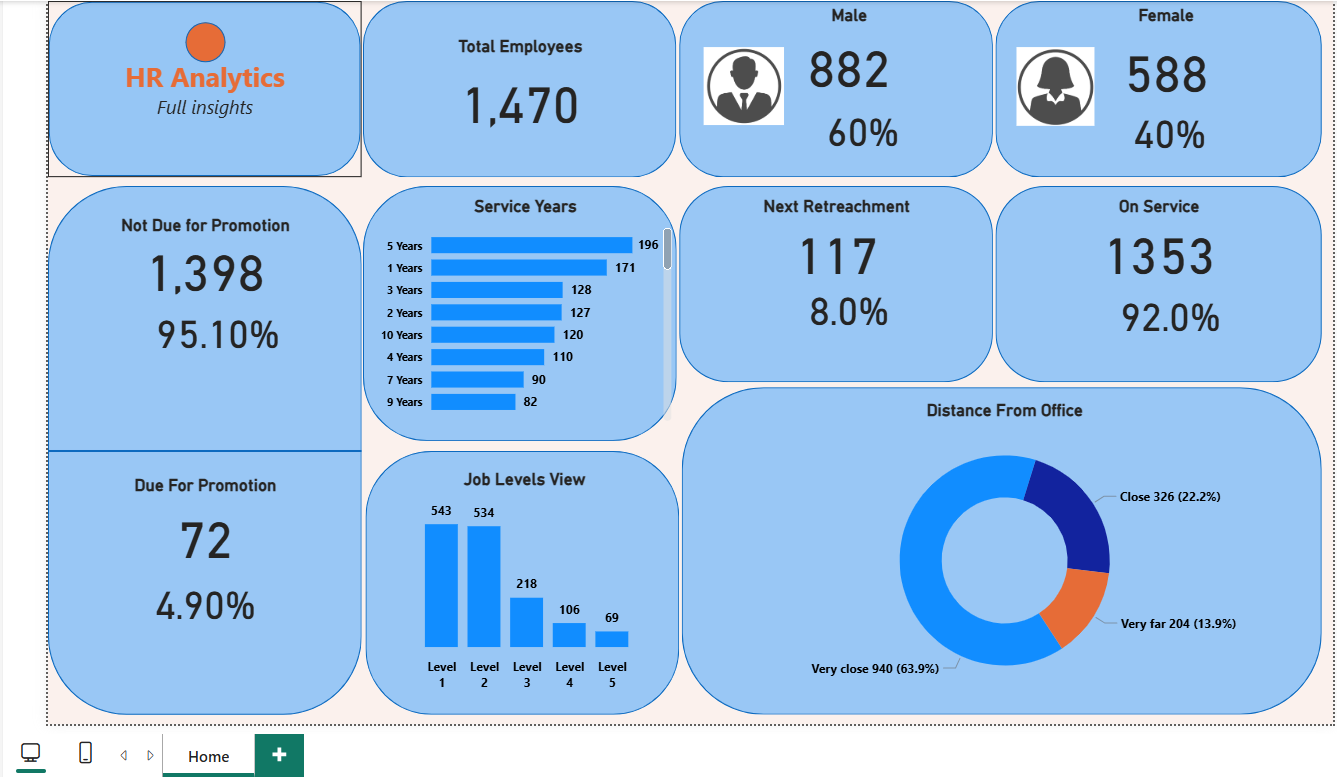

Layout of this report page (visuals, bound fields, positions):
{"tool":"powerbi","page":{"name":"Home","canvas":[1280,720],"ordinal":0},"visuals":[{"type":"shape","box":[0,0,312.2,175.4],"z":0},{"type":"shape","box":[942.9,0,324.7,175.4],"z":1000},{"type":"shape","box":[314,0,311.6,175.6],"z":2000},{"type":"shape","box":[0,184.1,312.2,526.2],"z":3000},{"type":"shape","box":[313.5,184.1,312.2,253.8],"z":4000},{"type":"shape","box":[628.2,184.1,312.2,195.3],"z":5000},{"type":"shape","box":[942.9,184.1,324.7,195.3],"z":6000},{"type":"shape","box":[316,447.8,312.2,262.5],"z":7000},{"type":"shape","box":[630.7,384.4,636.9,325.9],"z":8000},{"type":"textbox","box":[0,52.2,312.2,75.9],"z":9000},{"type":"shape","box":[136.8,21.1,39.8,39.8],"z":10000},{"type":"card","title":"Total Employees","fields":{"Values":["All Measures.total_emp"]},"box":[319.7,34.8,301,107],"z":11000},{"type":"card","title":"Not Due for Promotion","fields":{"Values":["All Measures.Not Due for Promotion"]},"box":[6.2,212.7,301,84.6],"z":12000},{"type":"shape","box":[628.2,0,312.2,175.4],"z":13000},{"type":"card","title":"Male","fields":{"Values":["All Measures.Males"]},"box":[681.7,3.7,231.4,97],"z":14000},{"type":"card","fields":{"Values":["All Measures.Male%"]},"box":[681.7,95.8,258.7,63.4],"z":15000},{"type":"card","title":"Female","fields":{"Values":["All Measures.Female"]},"box":[1002.6,3.7,220.2,107],"z":16000},{"type":"card","fields":{"Values":["All Measures.Female%"]},"box":[1003.9,98.3,225.2,61],"z":17000},{"type":"card","title":"Next Retreachment","fields":{"Values":["All Measures.Next Retreachment"]},"box":[634.4,194.1,301,88.3],"z":18000},{"type":"card","fields":{"Values":["All Measures.%Will be retreached"]},"box":[646.9,282.4,301,46],"z":19000},{"type":"card","title":"On Service","fields":{"Values":["All Measures.On Service"]},"box":[955.4,194.1,301,88.3],"z":20000},{"type":"card","fields":{"Values":["All Measures.%On Service"]},"box":[990.2,272.4,253.8,77.1],"z":21000},{"type":"shape","box":[0,297.3,312.2,301],"z":22000},{"type":"card","fields":{"Values":["All Measures.%Not Due for Promotion"]},"box":[18.7,297.3,301,62.2],"z":23000},{"type":"card","title":"Due For Promotion","fields":{"Values":["All Measures.Due for Promotion"]},"box":[6.2,471.5,301,99.5],"z":24000},{"type":"card","fields":{"Values":["All Measures.%Due for Promotion"]},"box":[6.2,537.4,301,121.9],"z":25000},{"type":"barChart","title":"Service Years","fields":{"Category":["HR Analytics Data.Service Years"],"Y":["All Measures.total_emp"]},"box":[324.7,194.1,301,228.9],"z":26000},{"type":"columnChart","title":"Job Levels View","fields":{"Category":["HR Analytics Data.Job_Level"],"Y":["All Measures.total_emp"]},"box":[348.3,465.2,252.5,228.9],"z":27000},{"type":"donutChart","title":"Distance From Office","fields":{"Category":["HR Analytics Data.Distance From Office"],"Y":["All Measures.total_emp"]},"box":[681.7,396.8,541.1,301],"z":28000},{"type":"image","box":[646.9,41.1,90.8,87.1],"z":29000},{"type":"image","box":[956.6,41.1,92.1,88.3],"z":30000}]}

Visuals, with their boxes in screenshot pixels (x1, y1, x2, y2):
shape: (left=38, top=0, right=360, bottom=170)
shape: (left=1010, top=0, right=1336, bottom=170)
shape: (left=362, top=0, right=683, bottom=170)
shape: (left=38, top=179, right=360, bottom=721)
shape: (left=361, top=179, right=683, bottom=441)
shape: (left=685, top=179, right=1007, bottom=380)
shape: (left=1010, top=179, right=1336, bottom=380)
shape: (left=364, top=451, right=685, bottom=721)
shape: (left=688, top=386, right=1336, bottom=721)
textbox: (left=38, top=43, right=360, bottom=122)
shape: (left=179, top=11, right=220, bottom=52)
"Total Employees" card: (left=368, top=25, right=678, bottom=136)
"Not Due for Promotion" card: (left=45, top=209, right=355, bottom=296)
shape: (left=685, top=0, right=1007, bottom=170)
"Male" card: (left=741, top=0, right=979, bottom=93)
card - All Measures.Male%: (left=741, top=88, right=1007, bottom=154)
"Female" card: (left=1071, top=0, right=1298, bottom=104)
card - All Measures.Female%: (left=1072, top=91, right=1304, bottom=154)
"Next Retreachment" card: (left=692, top=189, right=1002, bottom=280)
card - All Measures.%Will be retreached: (left=705, top=280, right=1015, bottom=328)
"On Service" card: (left=1022, top=189, right=1333, bottom=280)
card - All Measures.%On Service: (left=1058, top=270, right=1320, bottom=350)
shape: (left=38, top=296, right=360, bottom=606)
card - All Measures.%Not Due for Promotion: (left=58, top=296, right=368, bottom=360)
"Due For Promotion" card: (left=45, top=475, right=355, bottom=578)
card - All Measures.%Due for Promotion: (left=45, top=543, right=355, bottom=669)
"Service Years" barChart: (left=373, top=189, right=683, bottom=425)
"Job Levels View" columnChart: (left=397, top=469, right=657, bottom=705)
"Distance From Office" donutChart: (left=741, top=398, right=1298, bottom=708)
image: (left=705, top=32, right=798, bottom=122)
image: (left=1024, top=32, right=1119, bottom=123)
